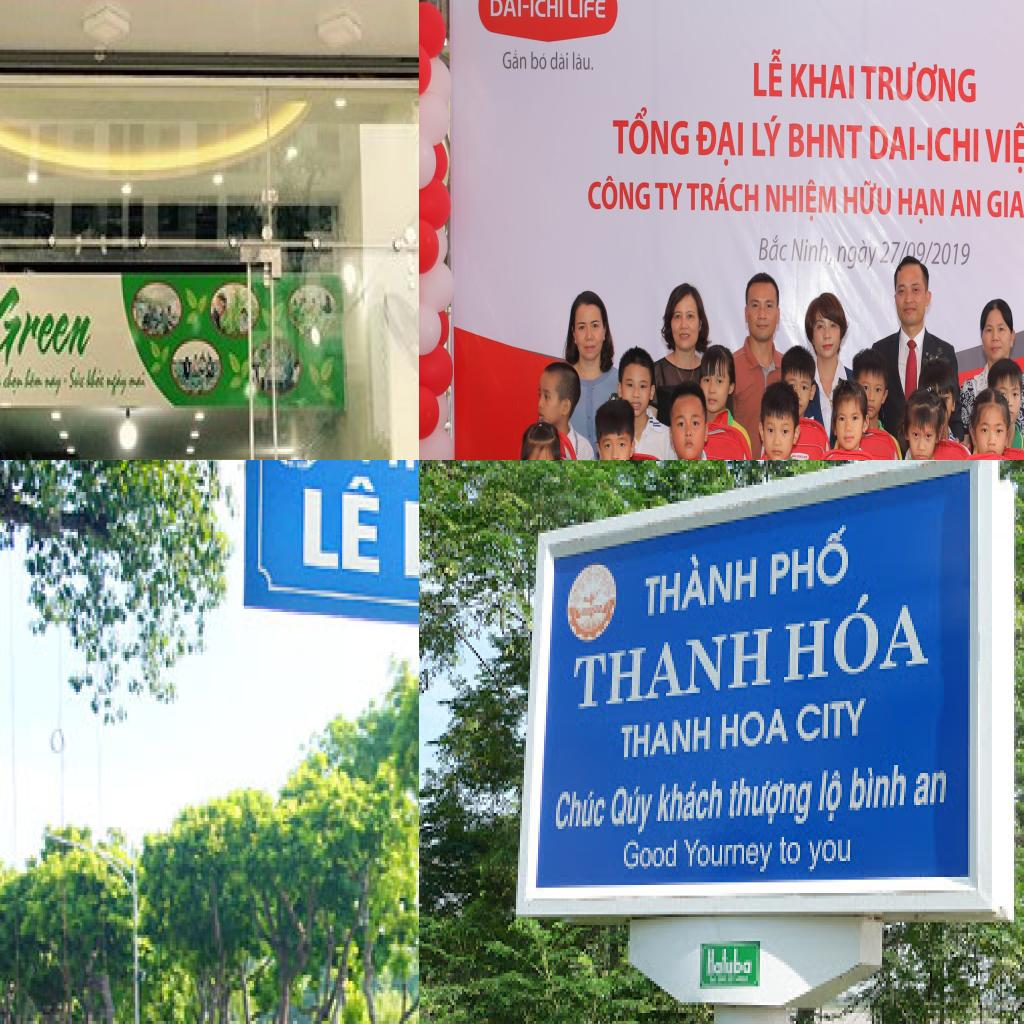text: (572, 626, 778, 714), (782, 589, 936, 690), (640, 544, 760, 621), (0, 280, 99, 372), (301, 471, 383, 581), (766, 522, 852, 600), (726, 773, 818, 832), (858, 61, 978, 105), (618, 712, 714, 762), (790, 693, 874, 746), (610, 106, 691, 160), (682, 837, 776, 880), (654, 776, 730, 826), (718, 704, 794, 752), (846, 762, 912, 816), (765, 177, 839, 221), (786, 120, 863, 162), (687, 174, 760, 215), (790, 59, 856, 104), (610, 784, 660, 840), (584, 173, 650, 213), (694, 118, 748, 166), (926, 123, 980, 171), (554, 786, 610, 832), (982, 117, 1024, 177), (622, 837, 680, 874), (868, 124, 916, 166), (842, 179, 892, 219), (806, 837, 856, 877), (814, 768, 846, 829), (897, 186, 946, 225), (531, 0, 608, 23), (752, 48, 784, 98), (706, 946, 756, 978), (912, 768, 950, 810), (749, 114, 784, 159), (835, 237, 878, 272), (928, 240, 972, 274), (791, 236, 835, 269), (984, 187, 1024, 223), (949, 184, 982, 224), (653, 178, 684, 214), (758, 231, 790, 265), (106, 367, 130, 401), (780, 837, 804, 869), (487, 0, 523, 20), (43, 372, 70, 398), (500, 46, 529, 70), (878, 238, 901, 268), (3, 367, 25, 398), (571, 50, 595, 74), (906, 240, 928, 265), (24, 367, 46, 390), (85, 367, 107, 390), (130, 367, 148, 393), (68, 370, 88, 392), (550, 50, 570, 71), (920, 242, 935, 270), (529, 48, 548, 70), (898, 240, 910, 265)
